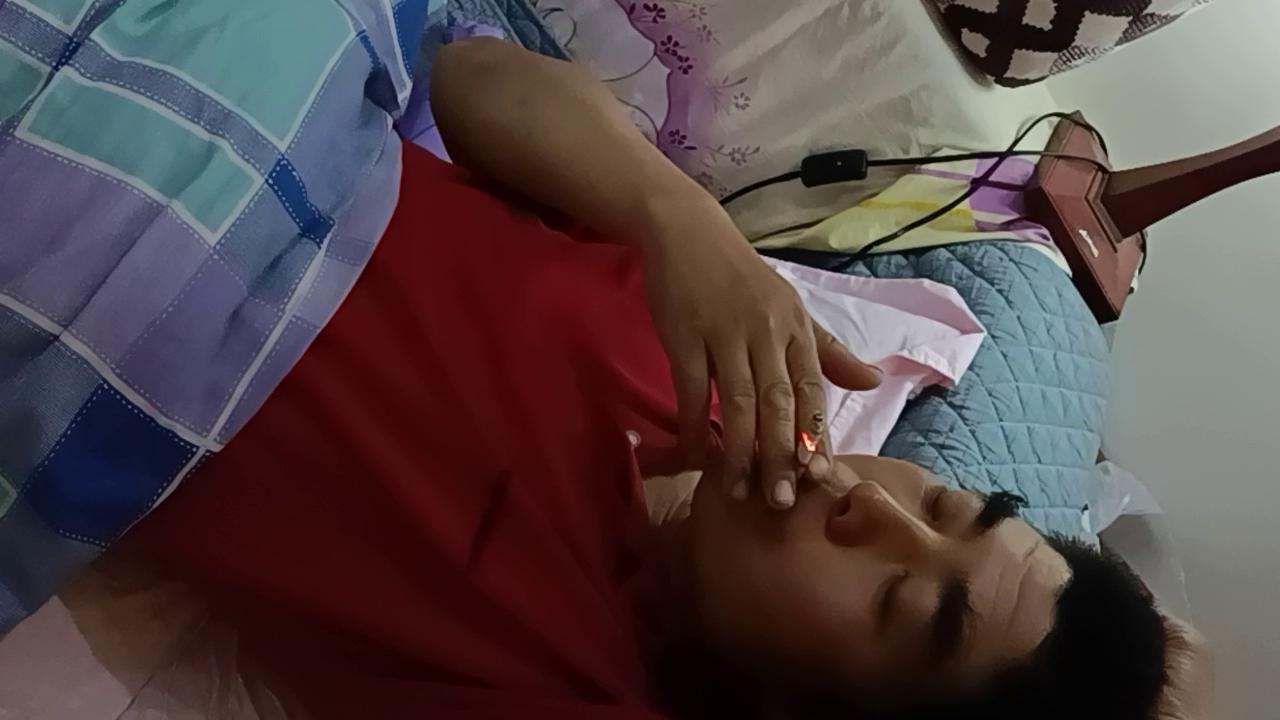smoke: (792, 412, 825, 479)
